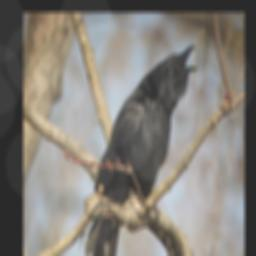Crow: (83, 39, 201, 256)
